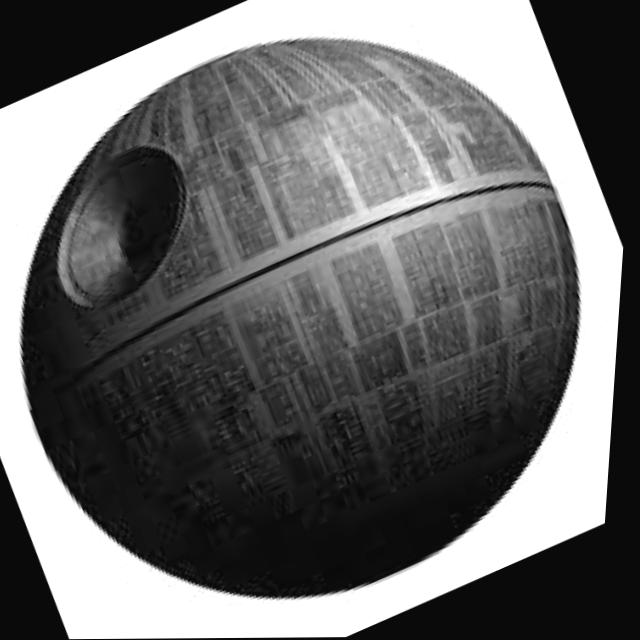death-stars: (18, 37, 585, 602)
